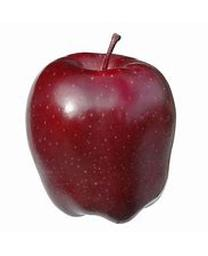apple: (24, 35, 175, 222)
